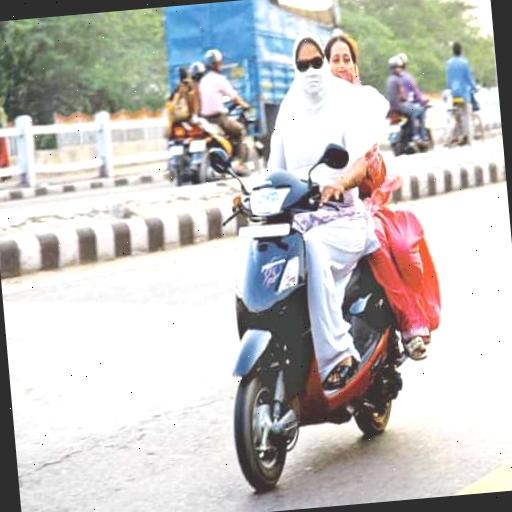no helmet: (210, 12, 375, 504)
